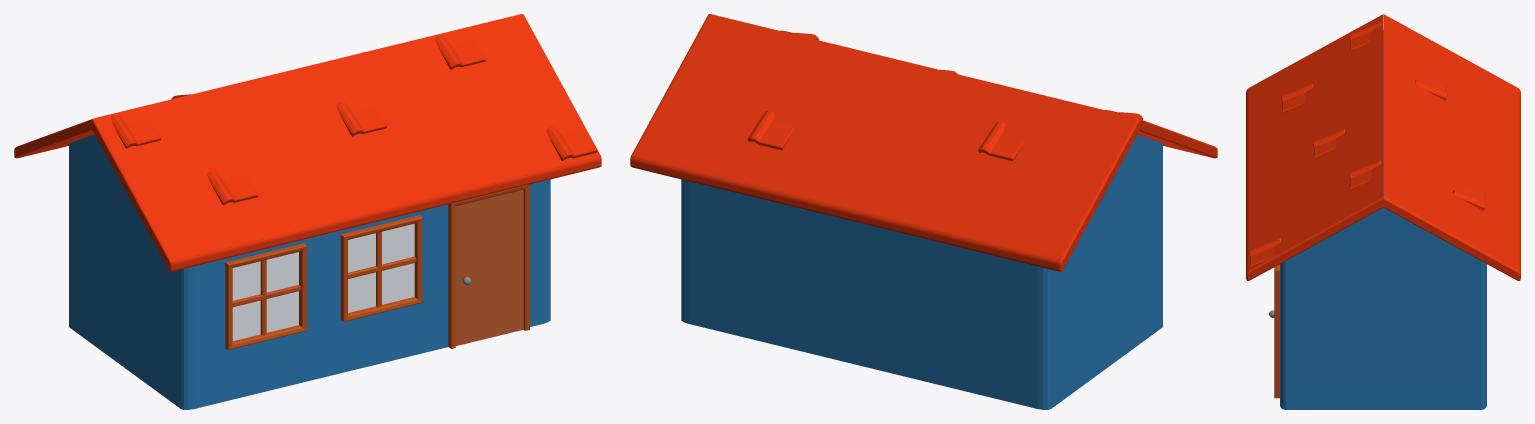
Rendered from house_blue.fbx.
3 views of the same model, side by side, from view 1: azimuth 30°, elevation 25°; view 2: azimuth 150°, elevation 25°; view 3: azimuth 270°, elevation 25° (orthographic). The views are drawn at different scales.
Parts seen in each view (by area): view 1: rummah; view 2: rummah; view 3: rummah.
Part boxes in pixels (x1,y1,x2,y2): rummah: [14, 14, 601, 409]; rummah: [630, 14, 1217, 409]; rummah: [1246, 14, 1520, 409].
Size of the model in its own units: 934 by 532 by 589.
